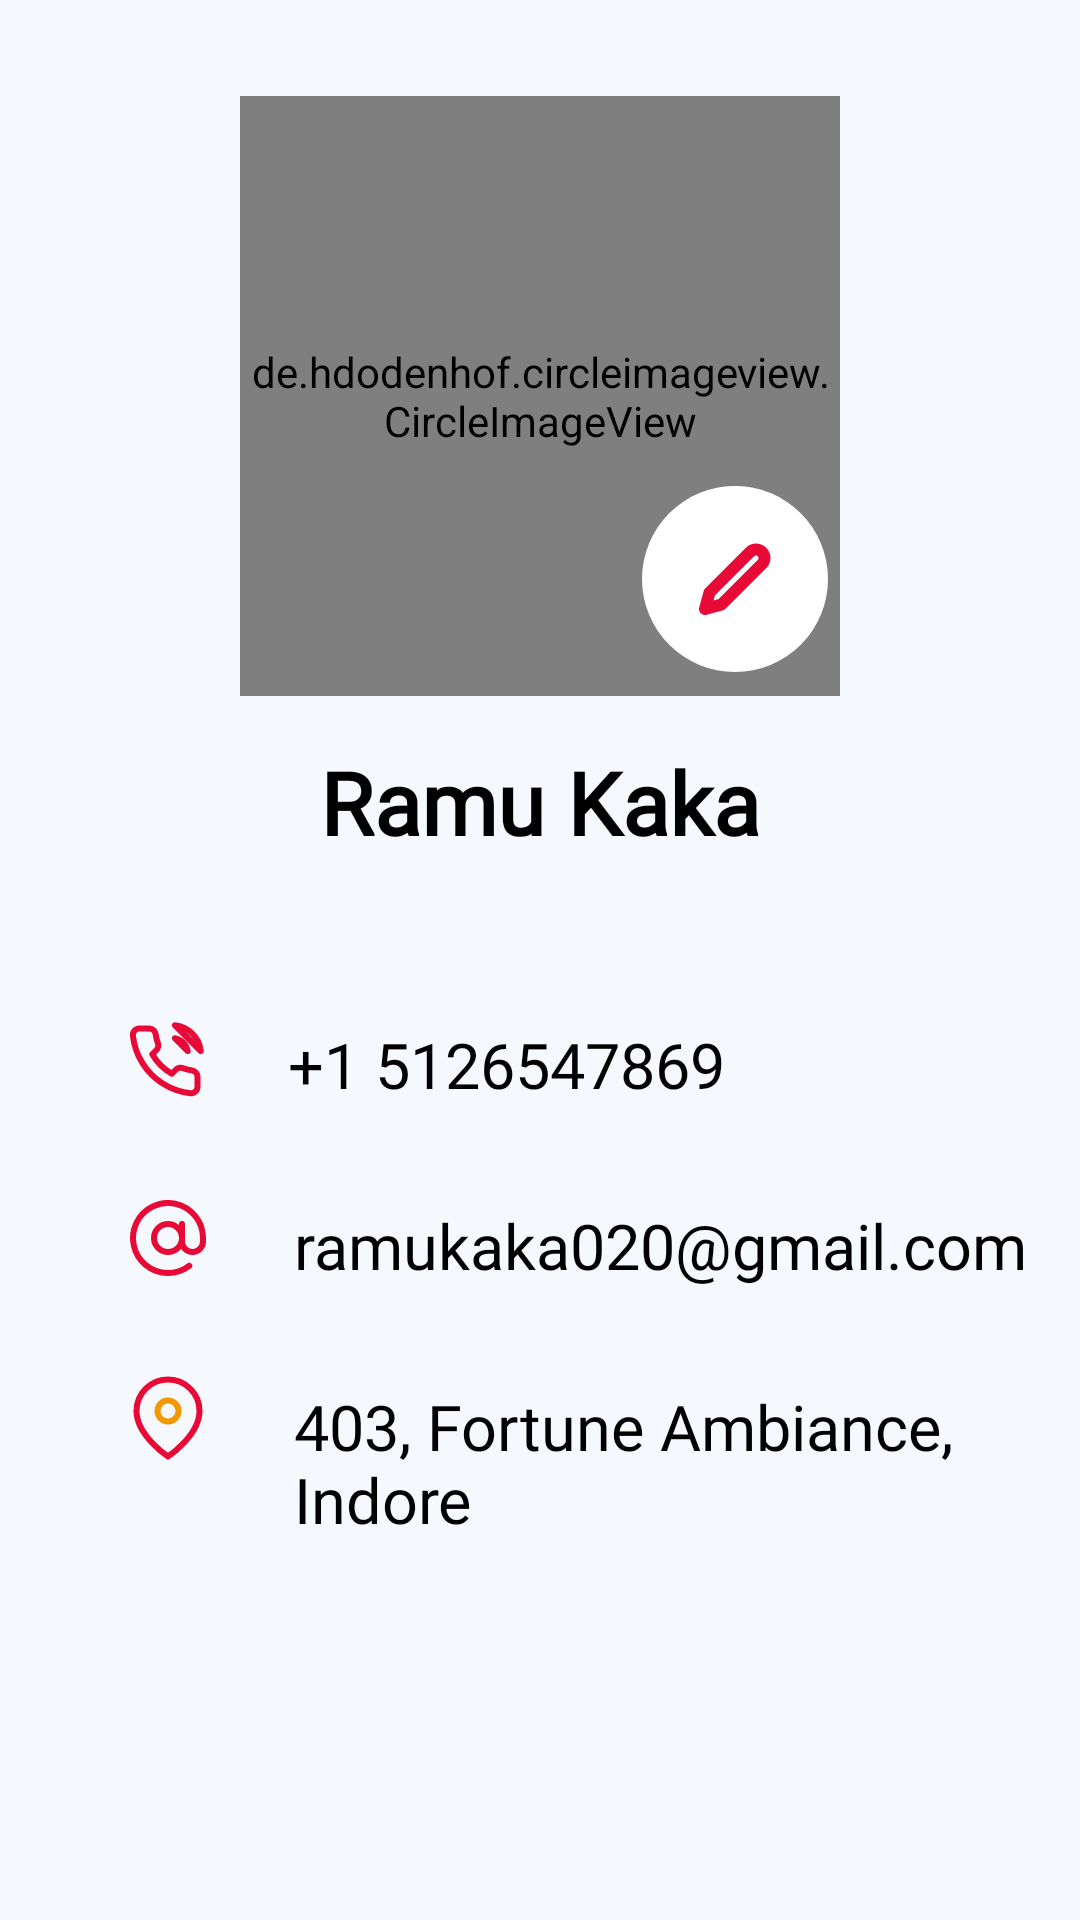

Icons on this 1080px×1920px Android screen, each with the point to tap as (x=x, y=y):
at sign: (x=168, y=1238)
map pin: (x=168, y=1418)
phone call: (x=166, y=1059)
